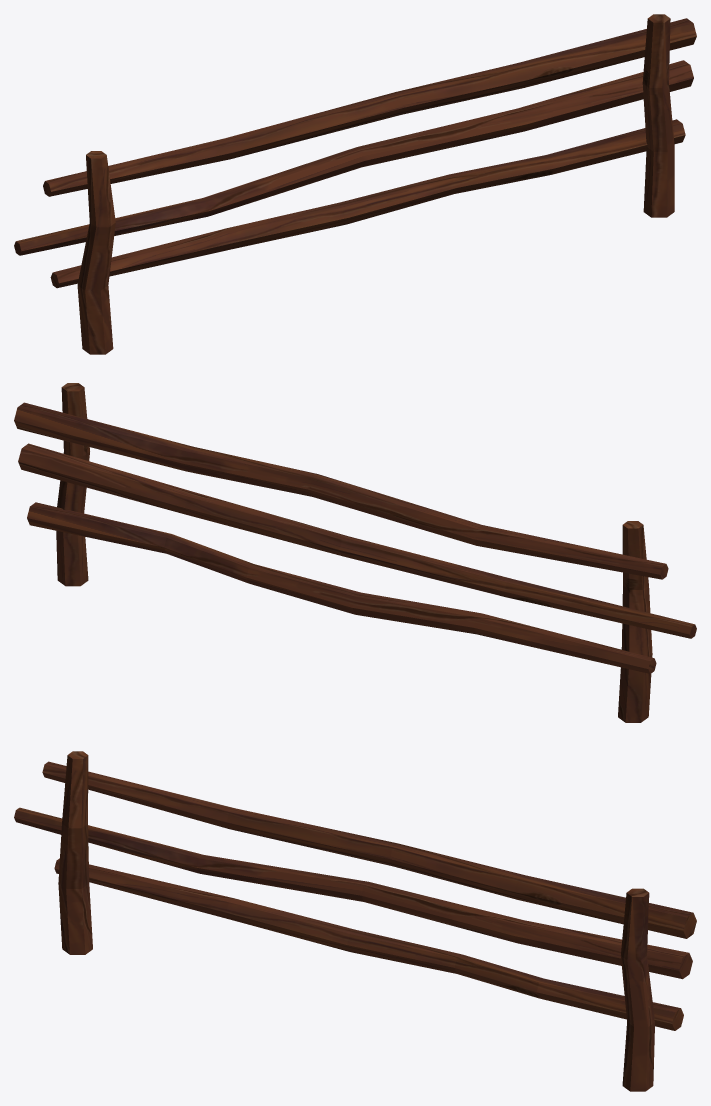
Rendered from fence_2.fbx.
3 renders of one model, top to bottom at view 1: azimuth 30°, elevation 25°; view 2: azimuth 150°, elevation 25°; view 3: azimuth 330°, elevation 25°, orthographic.
Parts seen in each view (by area): view 1: fence 2; view 2: fence 2; view 3: fence 2.
Part boxes in pixels (left/top/right/bottom): fence 2: left=14, top=14, right=696, bottom=354; fence 2: left=14, top=383, right=696, bottom=722; fence 2: left=14, top=751, right=696, bottom=1091.
Bounding box in the file's own units: 360 × 98.88 × 28.71.
Materials: 1 (1 with a texture image).
